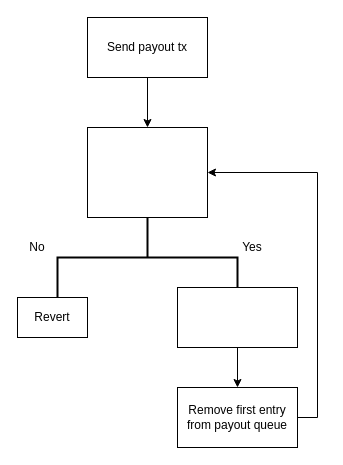
Image size: 343x465. Some labels were removed from this diagram. Each missing label, with the box of its shape:
Check first entry in payout_queue. Enough funds in contract for payout?: (86, 126, 208, 218)
Send funds back to reviewer: (176, 286, 298, 348)
